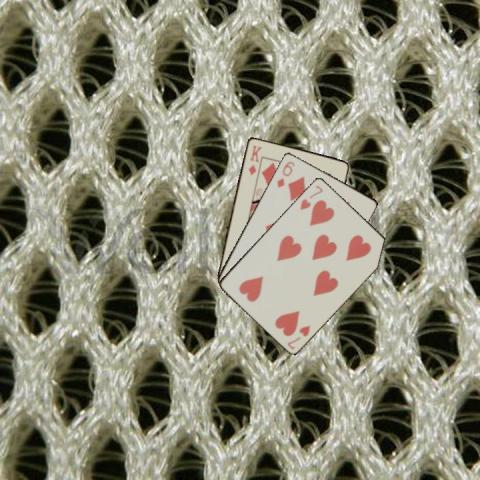6d: (274, 158, 296, 189)
7h: (297, 182, 324, 211), (284, 322, 311, 351)
Kd: (245, 142, 263, 176)
